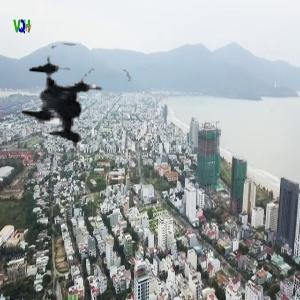drone: (6, 37, 142, 173)
